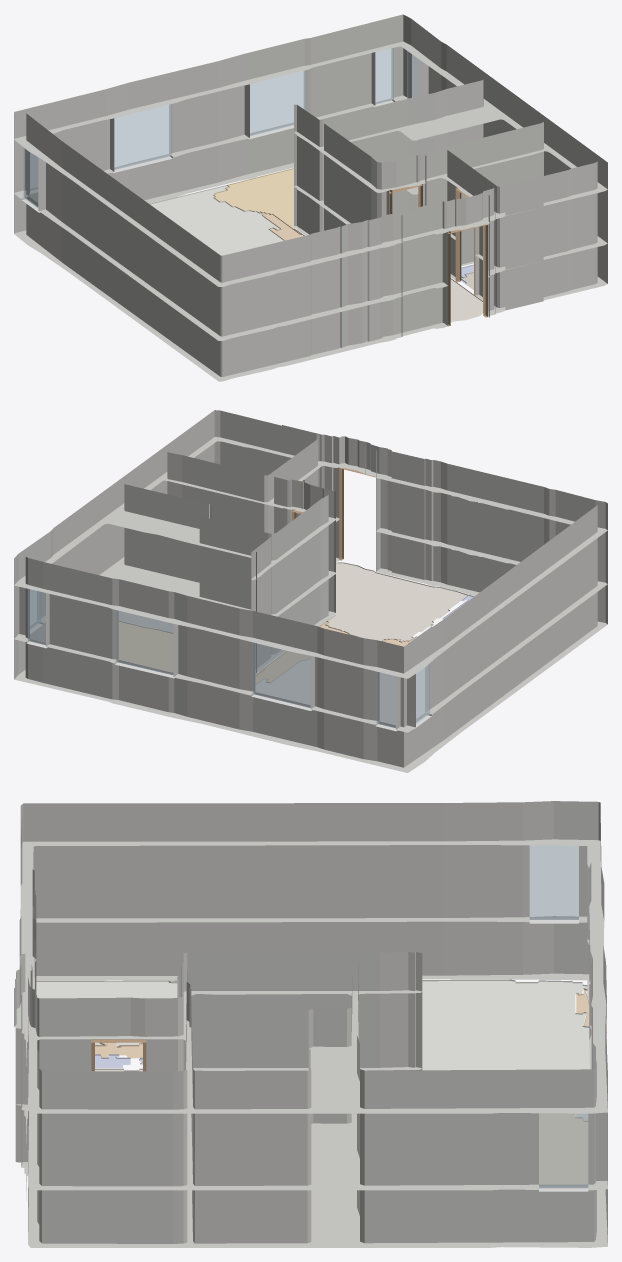
The picture shows the model from 3 angles, top to bottom: view 1: azimuth 30°, elevation 25°; view 2: azimuth 150°, elevation 25°; view 3: azimuth 270°, elevation 25°; orthographic projection. The views are drawn at different scales.
Parts seen in each view (by area): view 1: walls, floor_12_Undefined, window_5, window_4, floor_1_Kitchen, window_3, floor_8_Entry, window_8, door_2, window_7, door_1; view 2: walls, floor_8_Entry, window_5, window_4, floor_12_Undefined, floor_1_Kitchen, window_6, floor_2_Living_Room, window_3, window_8, door_2; view 3: walls, floor_12_Undefined, window_7, window_8, floor_1_Kitchen, floor_10_Undefined, floor_2_Living_Room.
Part boxes in pixels (x1=…): walls: x1=14, y1=14, x2=607, y2=381; floor_12_Undefined: x1=149, y1=185, x2=284, y2=255; window_5: x1=114, y1=102, x2=171, y2=169; window_4: x1=247, y1=68, x2=306, y2=135; floor_1_Kitchen: x1=214, y1=168, x2=301, y2=233; window_3: x1=374, y1=46, x2=393, y2=104; floor_8_Entry: x1=450, y1=278, x2=482, y2=322; window_8: x1=23, y1=144, x2=41, y2=207; door_2: x1=448, y1=224, x2=487, y2=326; window_7: x1=407, y1=47, x2=420, y2=98; door_1: x1=455, y1=187, x2=475, y2=295; walls: x1=14, y1=410, x2=607, y2=772; floor_8_Entry: x1=326, y1=562, x2=467, y2=641; window_5: x1=252, y1=640, x2=312, y2=707; window_4: x1=115, y1=608, x2=173, y2=674; floor_12_Undefined: x1=255, y1=658, x2=424, y2=724; floor_1_Kitchen: x1=119, y1=621, x2=264, y2=675; window_6: x1=376, y1=670, x2=396, y2=728; floor_2_Living_Room: x1=255, y1=621, x2=417, y2=683; window_3: x1=27, y1=587, x2=45, y2=645; window_8: x1=412, y1=660, x2=429, y2=725; door_2: x1=339, y1=467, x2=375, y2=560; walls: x1=14, y1=801, x2=607, y2=1247; floor_12_Undefined: x1=422, y1=979, x2=589, y2=1120; window_7: x1=539, y1=1110, x2=588, y2=1187; window_8: x1=529, y1=842, x2=578, y2=919; floor_1_Kitchen: x1=539, y1=1113, x2=587, y2=1184; floor_10_Undefined: x1=36, y1=980, x2=177, y2=1046; floor_2_Living_Room: x1=95, y1=980, x2=177, y2=1058.
Bounding box in the file's own units: 9.2 × 2.72 × 8.42.
